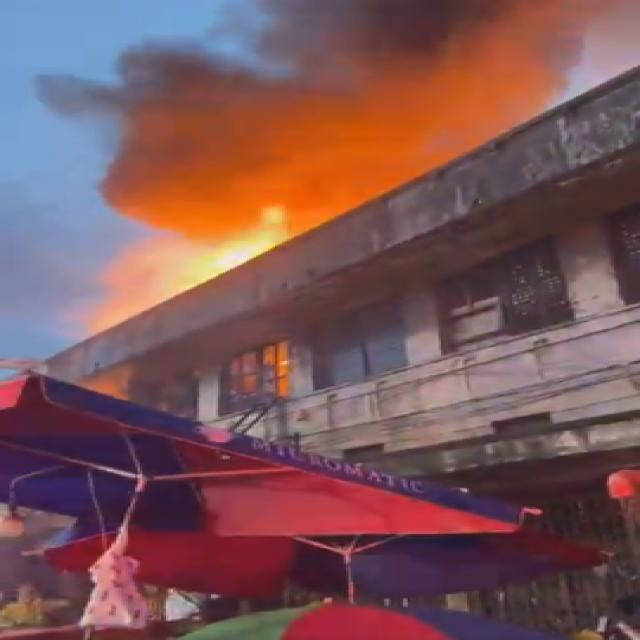Fire: (97, 209, 315, 286)
Smoke: (49, 8, 432, 206), (426, 2, 600, 94)
